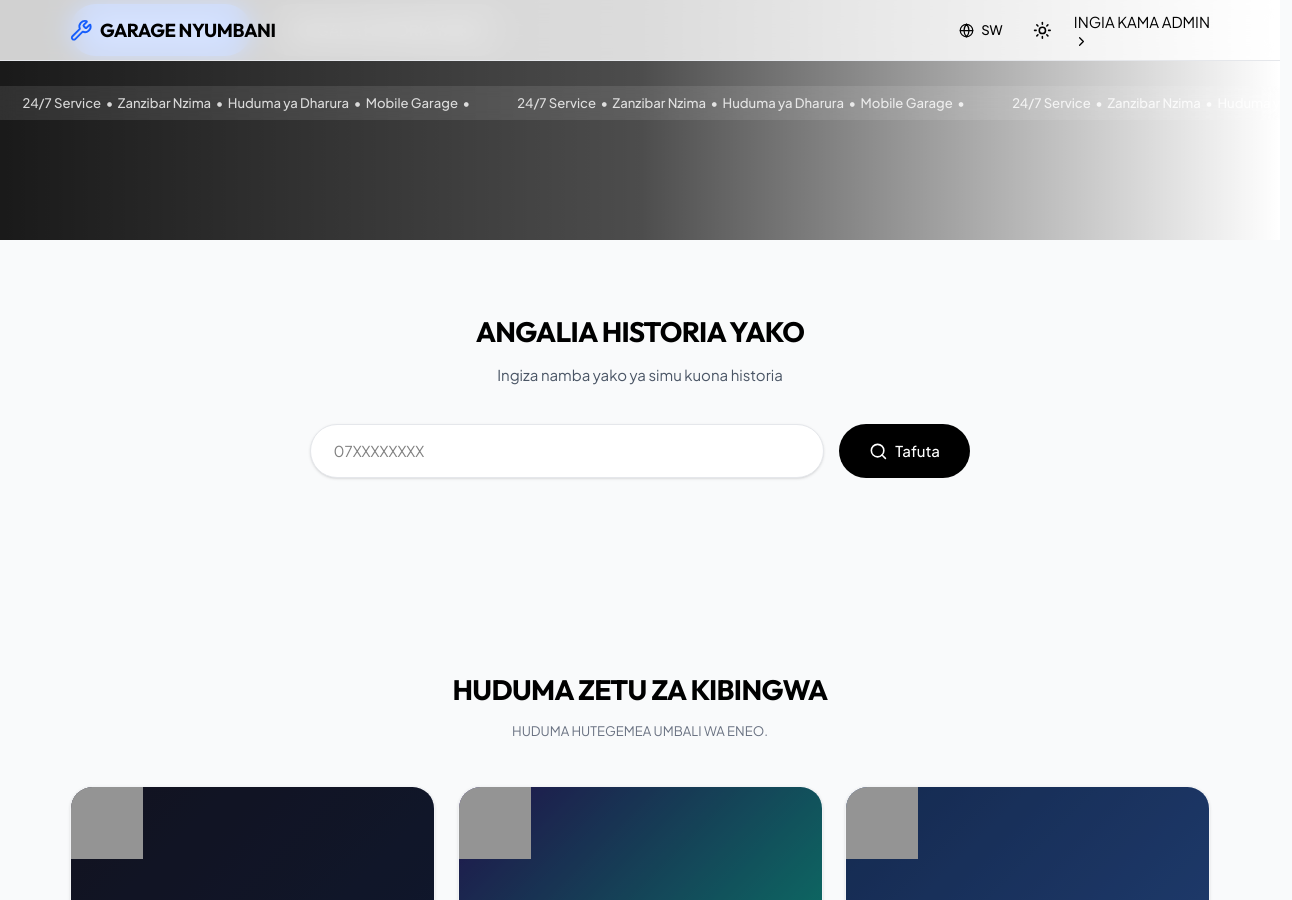
Test: History PDF Download › Download PDF button appears after search with results
(page scrolled)
Type "+255700111222" into the field with placeholder "07XXXXXXXX".
click(567, 451); type("+255700111222")  # box [310,424,824,478]
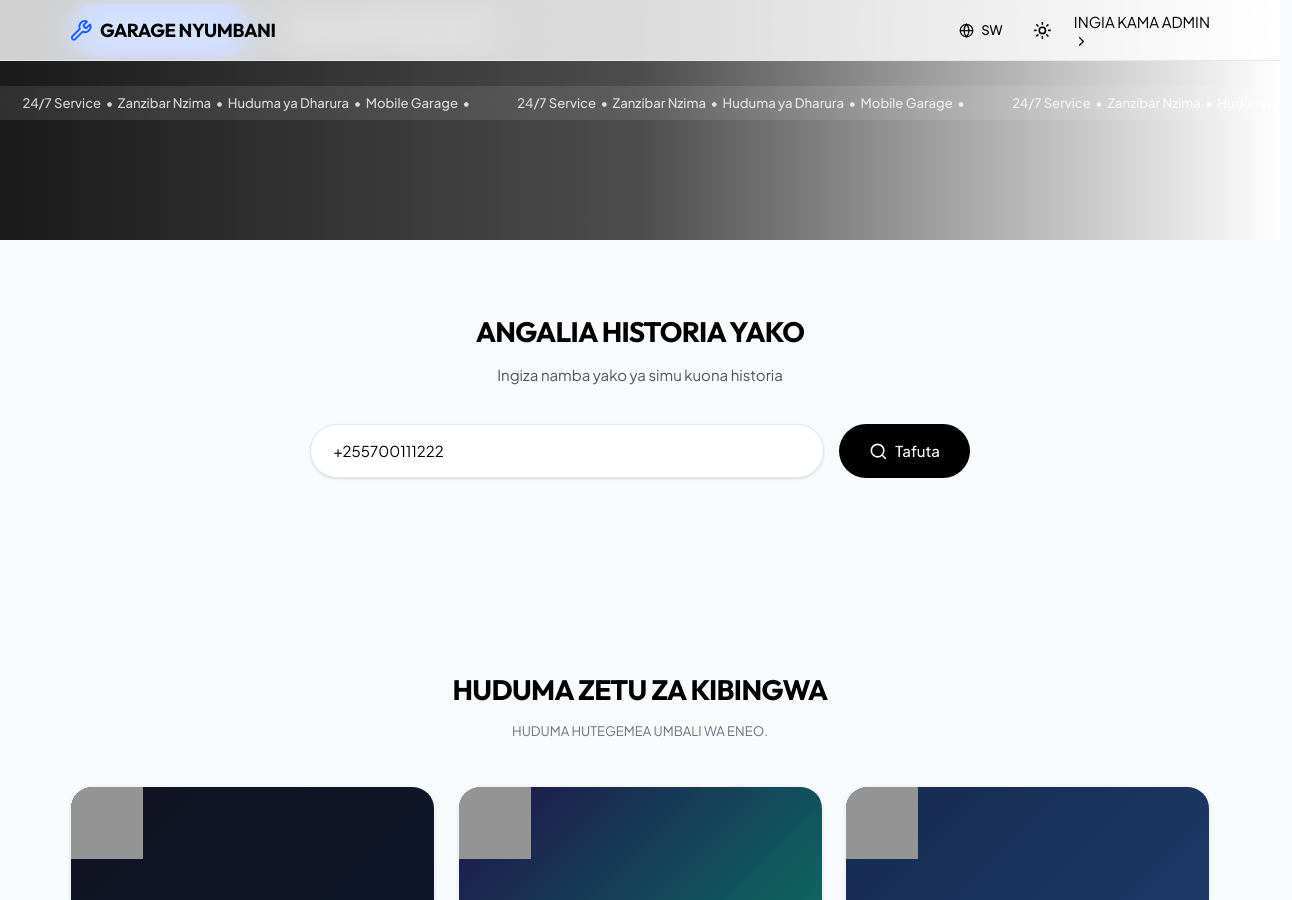
Submit the form with placeholder "07XXXXXXXX", box [310,424,970,478]
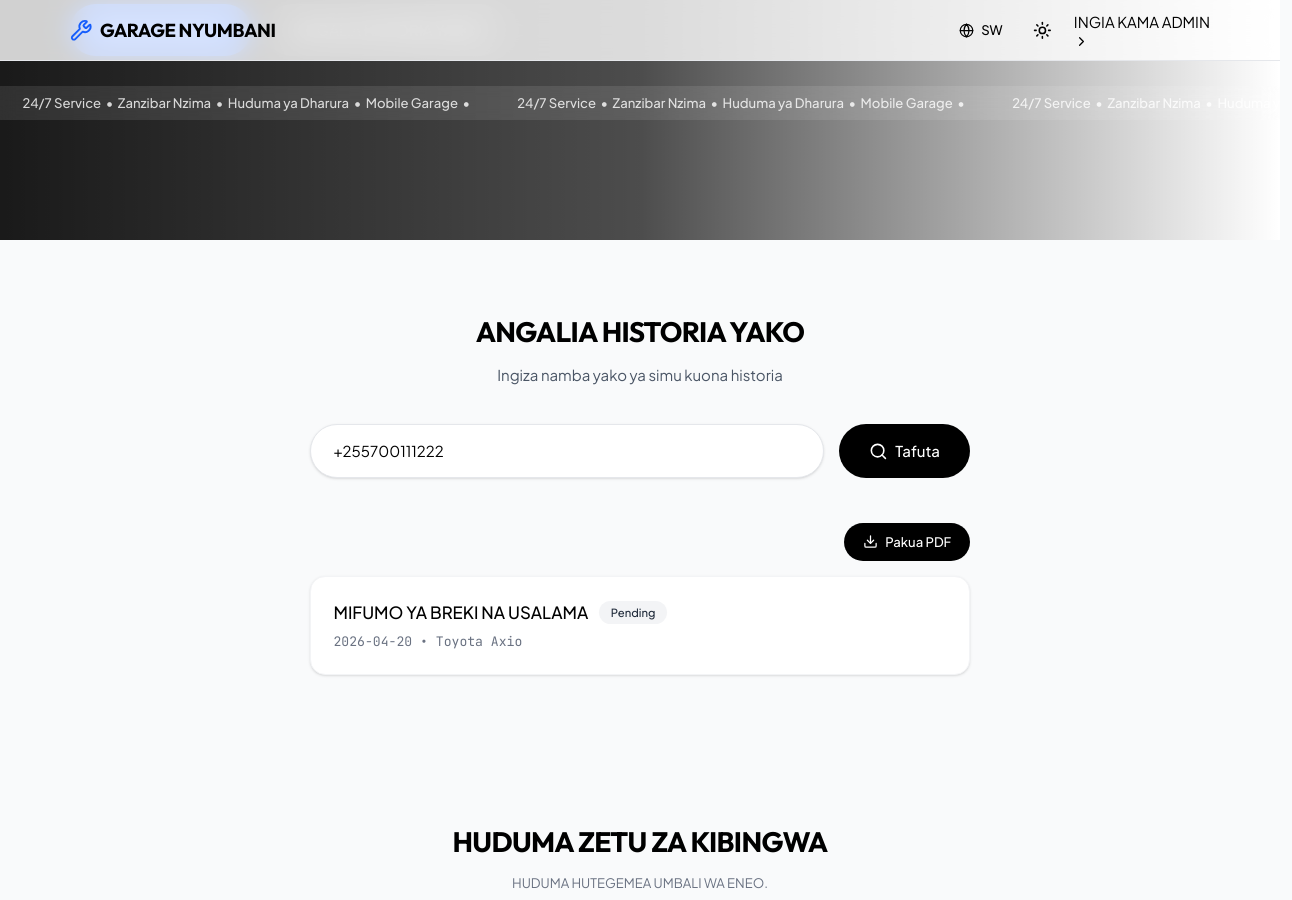
Result: the button "Pakua PDF" is shown at [844,523,970,561]
